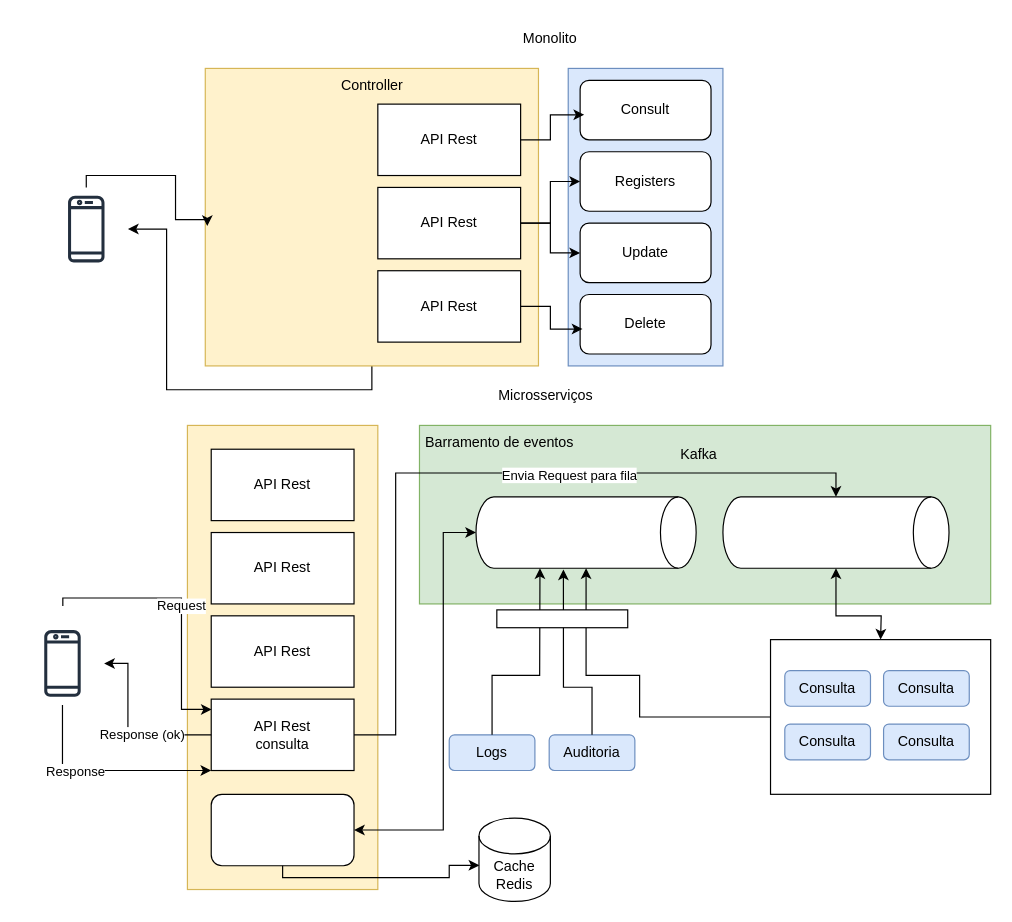
The diagram is 1012 pixels wide and 922 high, and some of its shapes have lost their labels. The centre of each missing label's shape, as x and y in pixels:
"Cliente" belongs at point (62, 663).
"Efetuar - Consulta" belongs at point (835, 532).
"Mobile client" belongs at point (85, 228).
"Resposta - consulta" belongs at point (585, 532).
"Serviço de recebimento" belongs at point (282, 829).
"Topicos" belongs at point (562, 618).
